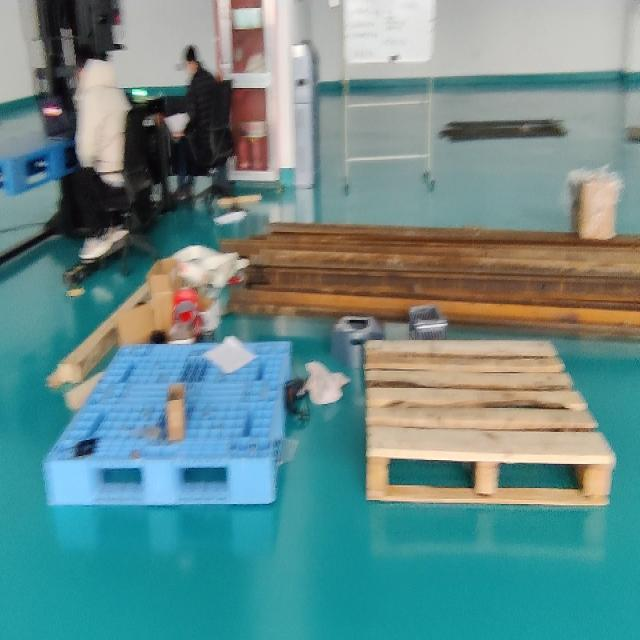euro: (363, 339, 617, 511)
